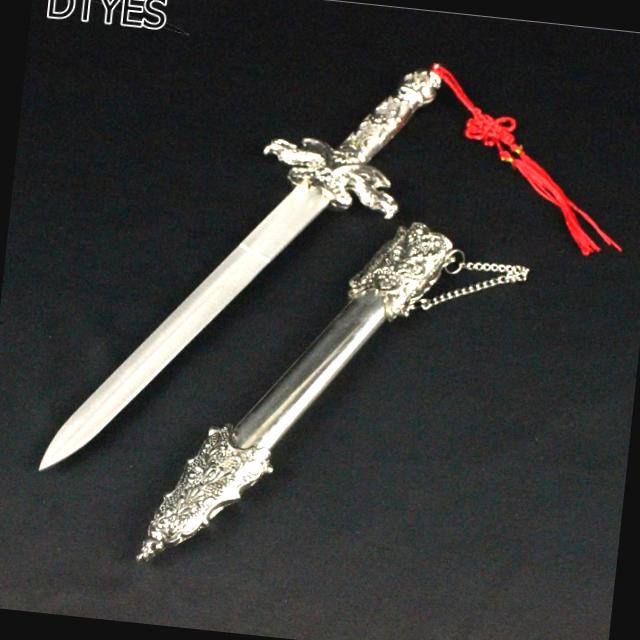short sword: (16, 8, 640, 620)
